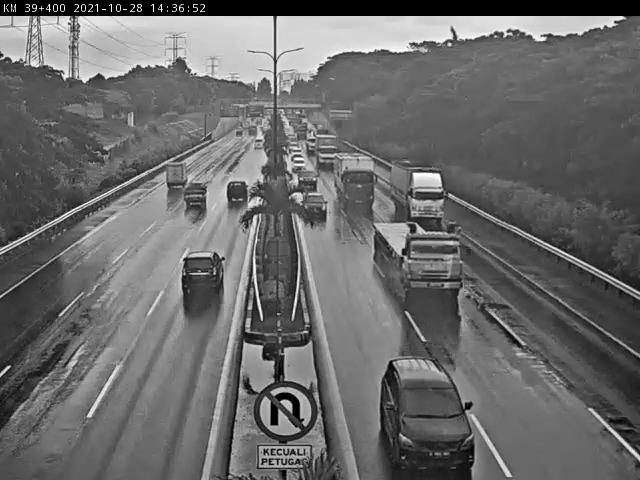big truck: (381, 227, 461, 291), (391, 160, 443, 215), (343, 157, 370, 203)
car: (389, 365, 460, 454), (148, 248, 237, 310), (223, 182, 241, 212), (305, 195, 324, 221), (298, 163, 316, 181)
small truck: (184, 187, 212, 218), (159, 169, 181, 197)
